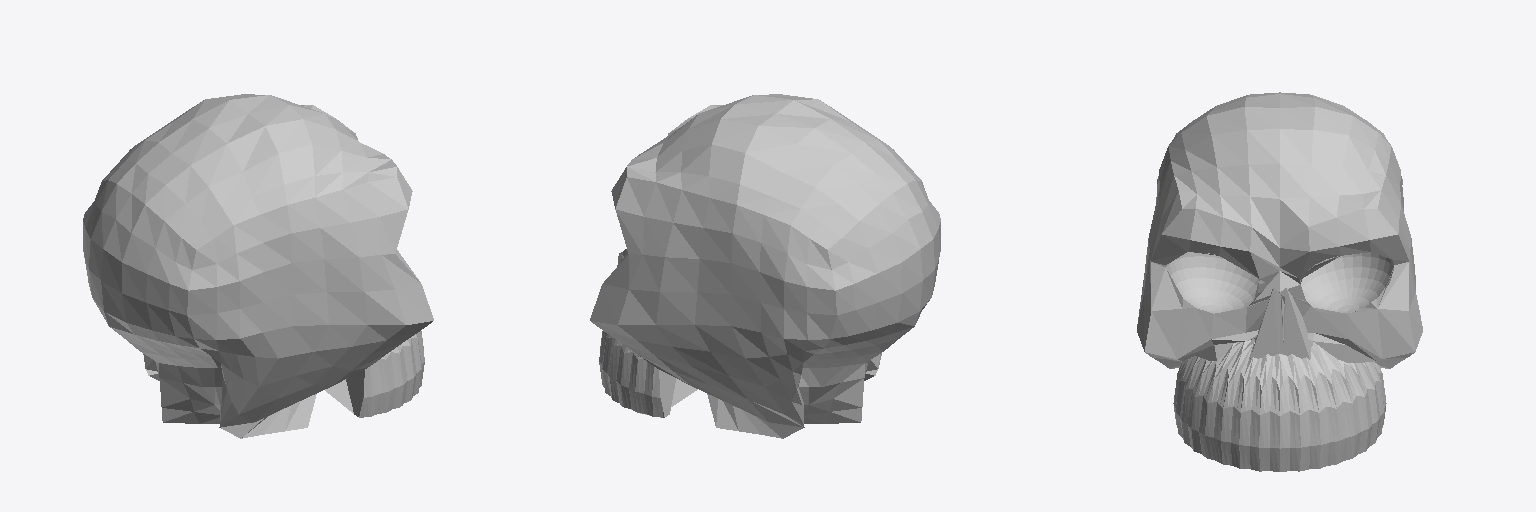
Rendered from skull.obj.
3 views of the same model, side by side, from view 1: azimuth 30°, elevation 25°; view 2: azimuth 150°, elevation 25°; view 3: azimuth 270°, elevation 25° (orthographic).
Parts seen in each view (by area): view 1: Cylindre.001; view 2: Cylindre.001; view 3: Cylindre.001.
Boxes of the visible parts, x1,y1,x2,y2 form: Cylindre.001: [83, 94, 433, 438]; Cylindre.001: [590, 94, 940, 438]; Cylindre.001: [1137, 92, 1422, 471].
Bounding box in the file's own units: 0.6317 × 0.5654 × 0.5063.